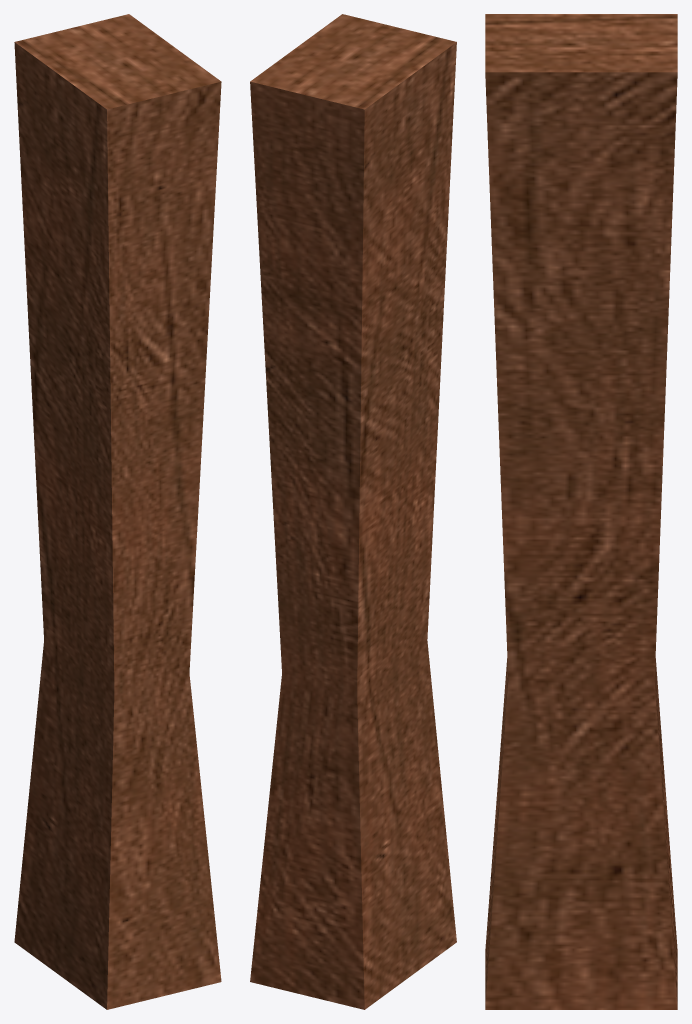
File: fanasty_mod_house_beam01.fbx
3 renders of one model, left to right at view 1: azimuth 30°, elevation 25°; view 2: azimuth 150°, elevation 25°; view 3: azimuth 270°, elevation 25°, orthographic. The views are drawn at different scales.
Parts seen in each view (by area): view 1: house_beam_01; view 2: house_beam_01; view 3: house_beam_01.
Part boxes in pixels (x1,y1,x2,y2): house_beam_01: [14, 14, 221, 1009]; house_beam_01: [250, 14, 456, 1009]; house_beam_01: [485, 14, 677, 1009].
Bounding box in the file's own units: 0.4892 × 3.67 × 0.6827.
